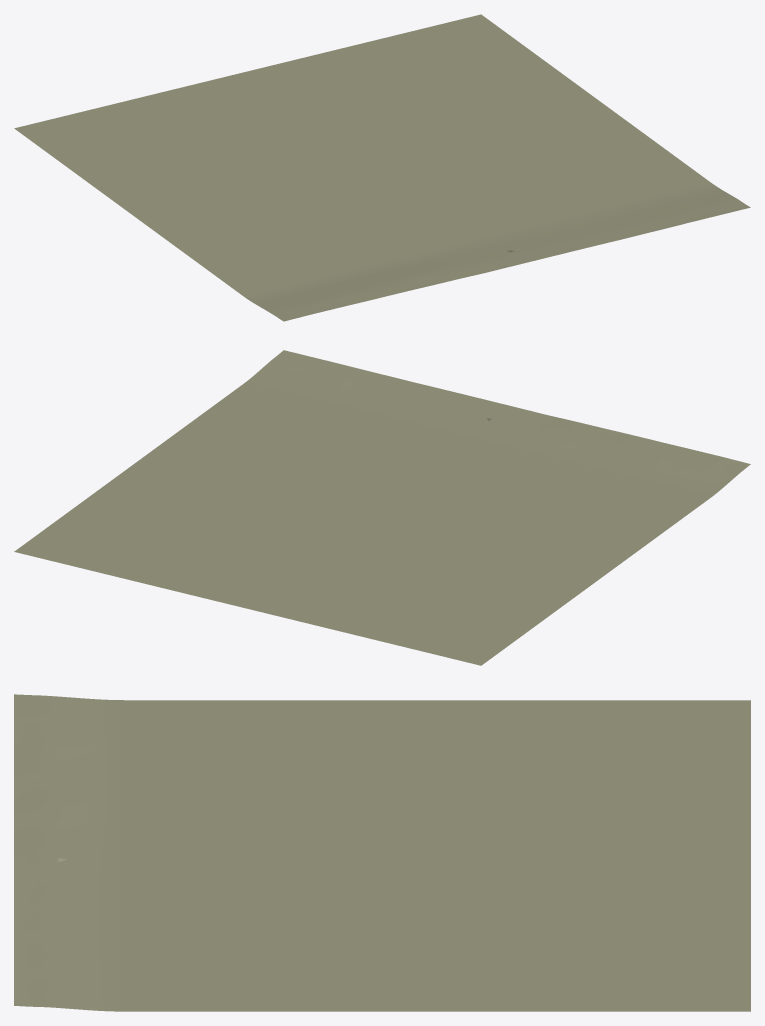
The model's file is SM_VB_CityTerrain_3_5.fbx.
3 renders of one model, top to bottom at view 1: azimuth 30°, elevation 25°; view 2: azimuth 150°, elevation 25°; view 3: azimuth 270°, elevation 25°, orthographic. The views are drawn at different scales.
Parts seen in each view (by area): view 1: SM_VB_CityTerrain_3_5; view 2: SM_VB_CityTerrain_3_5; view 3: SM_VB_CityTerrain_3_5.
Part boxes in pixels (x1,y1,x2,y2): SM_VB_CityTerrain_3_5: (14,14,750,321); SM_VB_CityTerrain_3_5: (14,350,750,665); SM_VB_CityTerrain_3_5: (14,694,750,1011).
Bounding box in the file's own units: 600 × 5.6 × 600.
